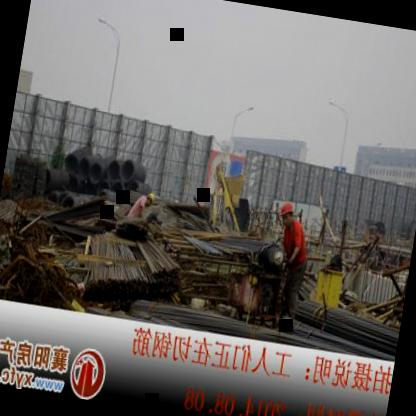helmet: (276, 198, 294, 228), (143, 188, 158, 209)
